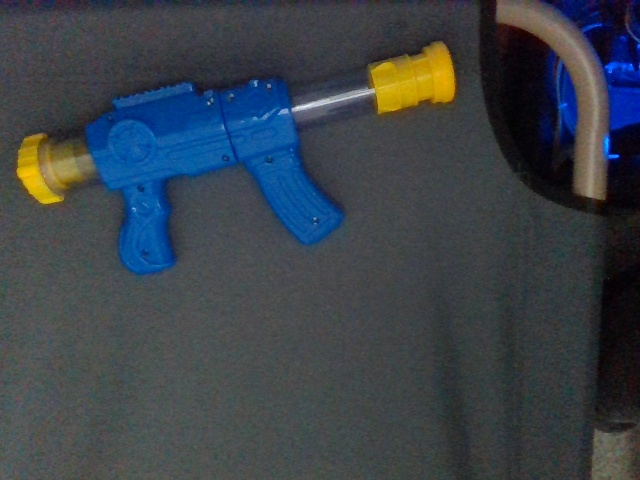screw hole: (266, 154, 275, 164), (312, 217, 321, 226), (206, 96, 214, 106), (137, 184, 145, 193), (222, 155, 231, 163), (106, 115, 114, 123), (140, 250, 149, 257), (266, 83, 273, 90), (229, 94, 235, 102)
toy: (16, 41, 455, 275)
